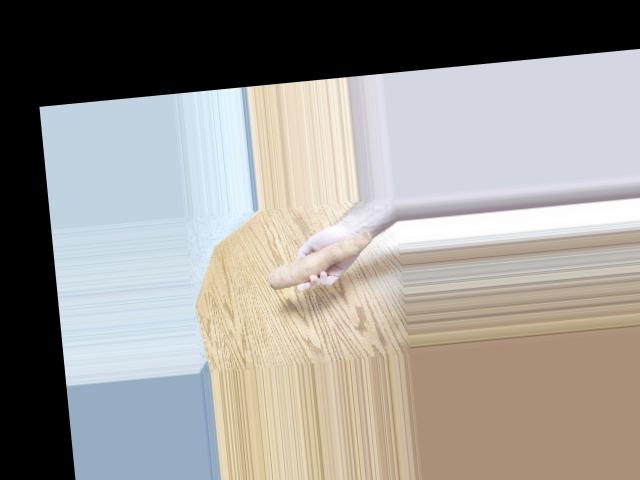sweet_potato: (263, 230, 373, 292)
